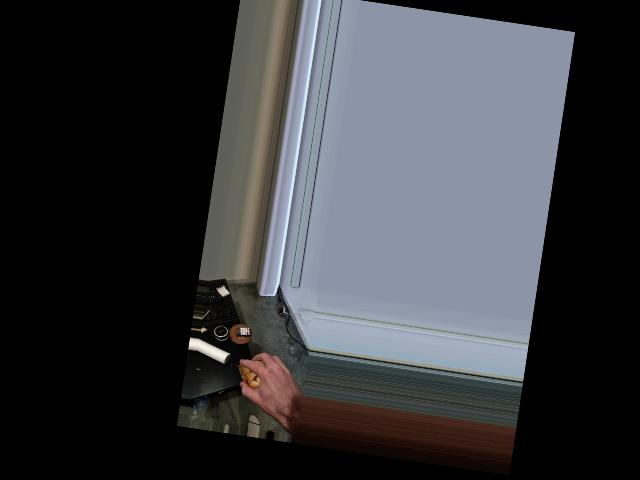onion: (233, 358, 281, 400)
